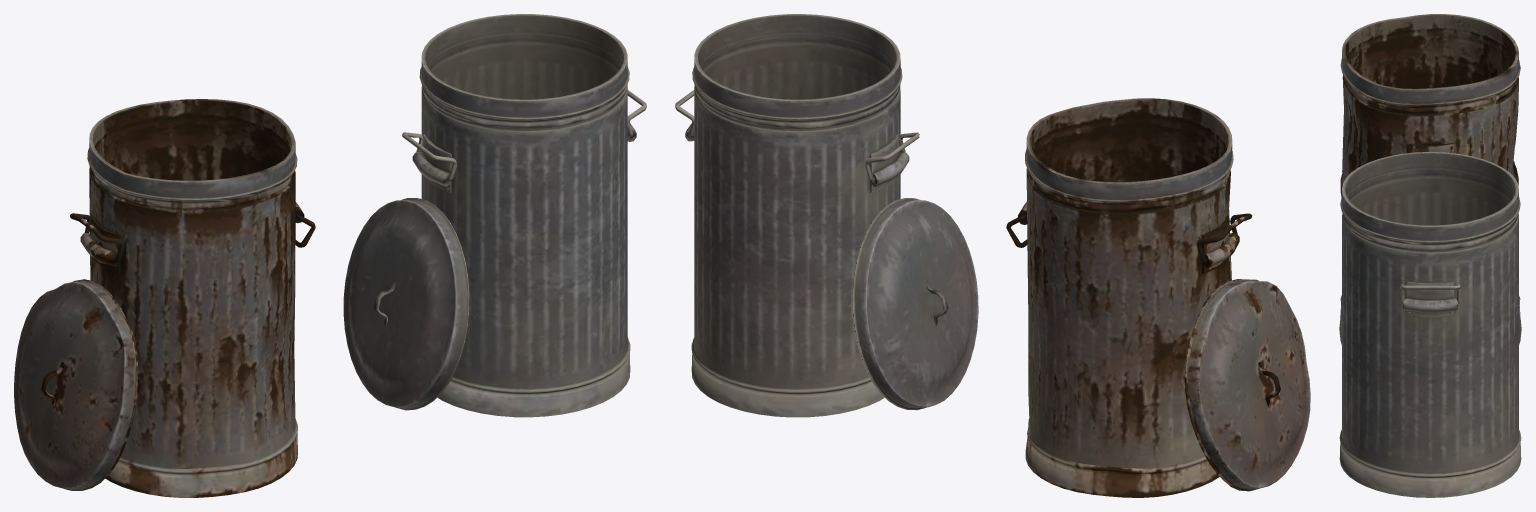
File: metal_trash_can.glb
The picture shows the model from 3 angles, left to right: view 1: azimuth 30°, elevation 25°; view 2: azimuth 150°, elevation 25°; view 3: azimuth 270°, elevation 25°; orthographic projection. The views are drawn at different scales.
Visible parts, largest first — view 1: metal_trash_can_handle_left, metal_trash_can_rust; view 2: metal_trash_can_handle_left, metal_trash_can_rust; view 3: metal_trash_can_handle_left, metal_trash_can_rust.
Part boxes in pixels (x1,y1,x2,y2): metal_trash_can_handle_left: (343,14,646,417); metal_trash_can_rust: (14,99,315,497); metal_trash_can_handle_left: (675,14,978,417); metal_trash_can_rust: (1006,98,1310,497); metal_trash_can_handle_left: (1339,152,1521,497); metal_trash_can_rust: (1340,14,1520,317).
Size of the model in its own units: 1.78 by 0.9062 by 0.5543.
2 materials, 2 textured.
